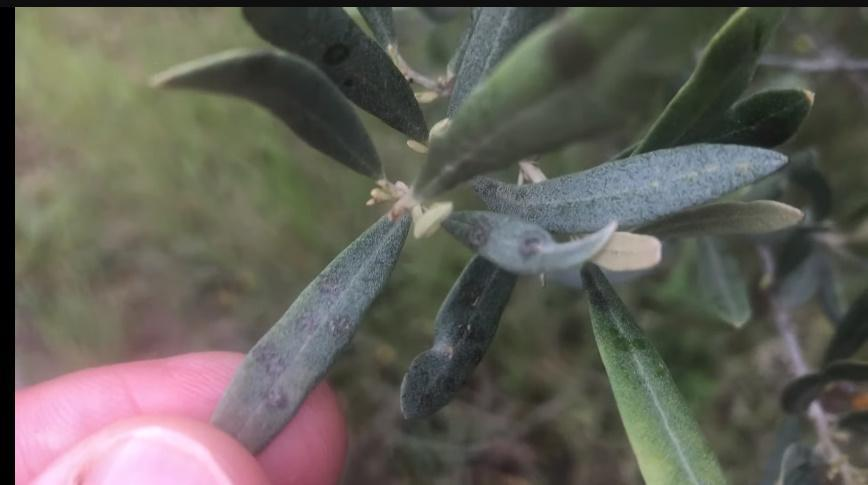OlivePeacockSpot: (418, 9, 708, 199), (225, 214, 405, 435), (241, 9, 430, 142), (404, 275, 498, 415), (458, 214, 613, 278)
